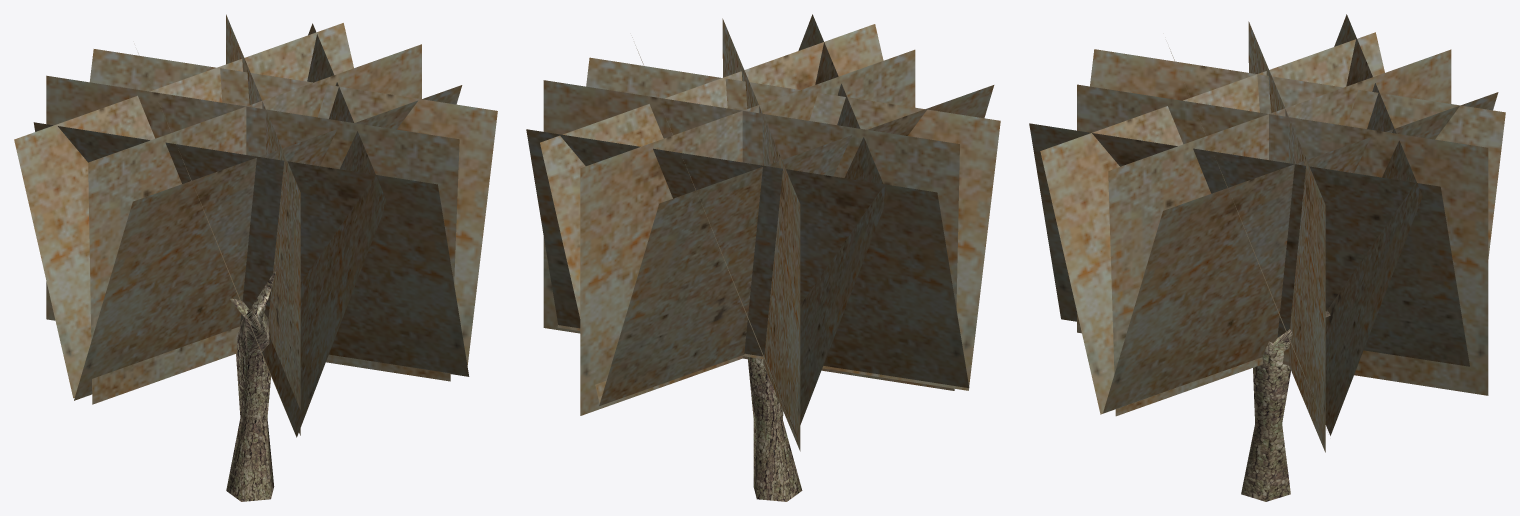
Rendered from M12A_Tree_Solid01.glb.
3 renders of one model, left to right at view 1: azimuth 30°, elevation 25°; view 2: azimuth 150°, elevation 25°; view 3: azimuth 270°, elevation 25°, orthographic.
Visible parts, largest first — view 1: M12A_TREE_SOLID01; view 2: M12A_TREE_SOLID01; view 3: M12A_TREE_SOLID01.
Part boxes in pixels (x1,y1,x2,y2): M12A_TREE_SOLID01: (14,14,497,501); M12A_TREE_SOLID01: (526,14,1000,501); M12A_TREE_SOLID01: (1029,14,1505,501).
Size of the model in its own units: 4.27 by 3.88 by 4.35.
2 materials, 2 textured.
